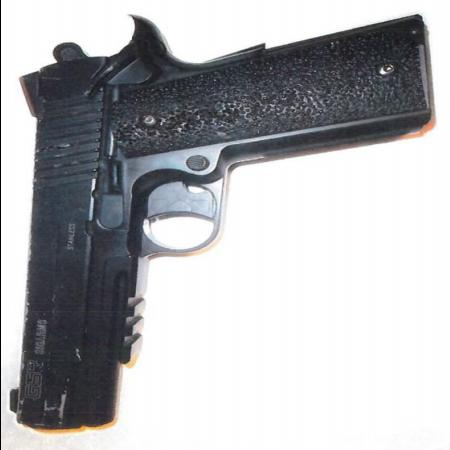Pistol: (7, 12, 430, 431)
